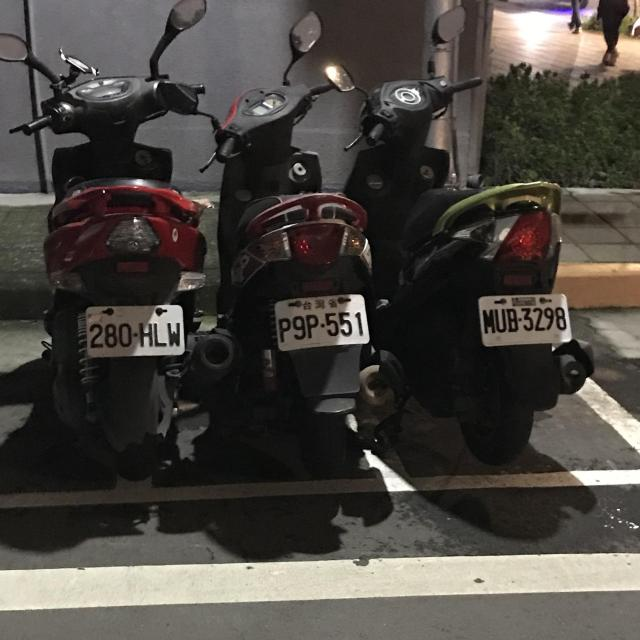W: (469, 285, 581, 354), (80, 298, 191, 362), (269, 288, 374, 353)
